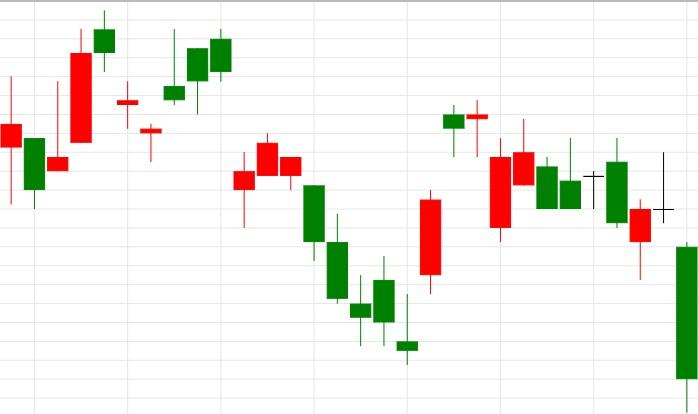morning_star_rise: (281, 156, 441, 365)
